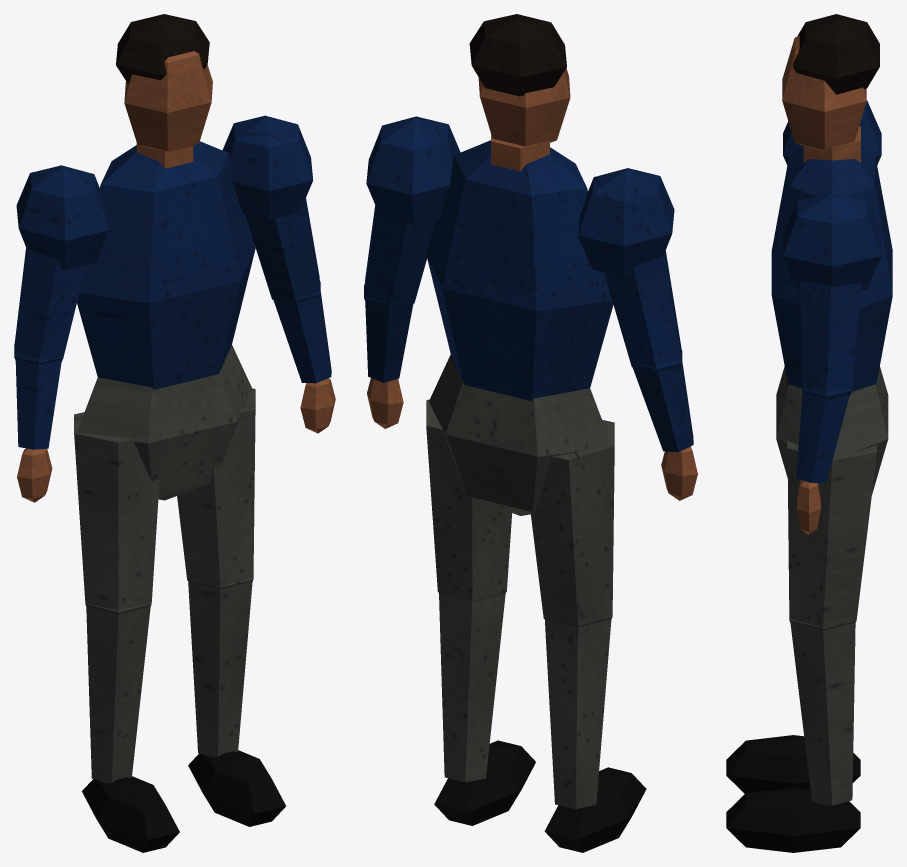
File: PROP-0E30B36C2427_lod2.glb
3 renders of one model, left to right at view 1: azimuth 30°, elevation 25°; view 2: azimuth 150°, elevation 25°; view 3: azimuth 270°, elevation 25°, orthographic. The views are drawn at different scales.
Visible parts, largest first — view 1: torso.021, thigh.020, calf.020, shoulder.021, pelvis.020, upper_arm.021, shoe.020, forearm.021, head.020, hair_cap.020, hand.020, neck.020; view 2: torso.021, thigh.020, calf.020, shoulder.021, pelvis.020, upper_arm.021, shoe.020, hair_cap.020, forearm.021, head.020, hand.020, neck.020 (+1 smaller); view 3: thigh.020, torso.021, shoe.020, calf.020, shoulder.021, upper_arm.021, hair_cap.020, head.020, pelvis.020, forearm.021, hand.020, neck.020 (+1 smaller).
Boxes of the visible parts, <box> form: torso.021: <box>77,141,255,389</box>; thigh.020: <box>74,388,255,610</box>; calf.020: <box>86,582,252,782</box>; shoulder.021: <box>16,115,313,270</box>; pelvis.020: <box>77,345,252,500</box>; upper_arm.021: <box>14,198,319,359</box>; shoe.020: <box>82,750,285,852</box>; forearm.021: <box>15,292,331,449</box>; head.020: <box>124,51,212,152</box>; hair_cap.020: <box>116,14,209,83</box>; hand.020: <box>17,378,335,502</box>; neck.020: <box>136,143,193,168</box>; torso.021: <box>426,140,613,401</box>; thigh.020: <box>426,399,614,626</box>; calf.020: <box>439,593,611,809</box>; shoulder.021: <box>366,116,674,276</box>; pelvis.020: <box>429,354,611,515</box>; upper_arm.021: <box>364,205,681,367</box>; shoe.020: <box>434,740,646,852</box>; hair_cap.020: <box>469,14,566,96</box>; forearm.021: <box>365,302,693,452</box>; head.020: <box>478,68,570,146</box>; hand.020: <box>367,378,697,500</box>; neck.020: <box>491,134,549,171</box>; thigh.020: <box>787,440,876,627</box>; torso.021: <box>771,146,892,391</box>; shoe.020: <box>726,735,860,852</box>; calf.020: <box>790,623,855,805</box>; shoulder.021: <box>783,100,881,290</box>; upper_arm.021: <box>800,280,861,390</box>; hair_cap.020: <box>793,14,879,94</box>; head.020: <box>782,36,866,150</box>; pelvis.020: <box>776,366,888,494</box>; forearm.021: <box>796,392,849,482</box>; hand.020: <box>797,479,820,534</box>; neck.020: <box>803,126,860,162</box>.
Size of the model in its own units: 0.72 by 1.71 by 0.3218.
Materials: 5 (5 with a texture image).
